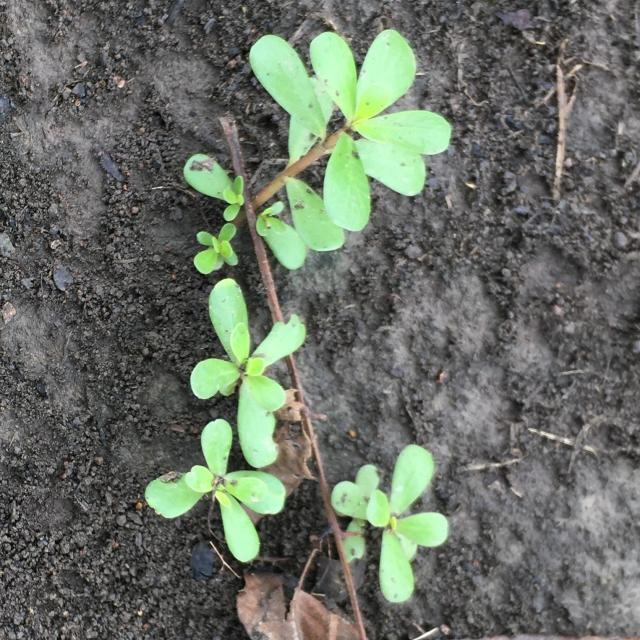Purslane: (184, 29, 452, 274), (144, 419, 308, 563), (190, 278, 306, 468), (331, 444, 448, 604)
